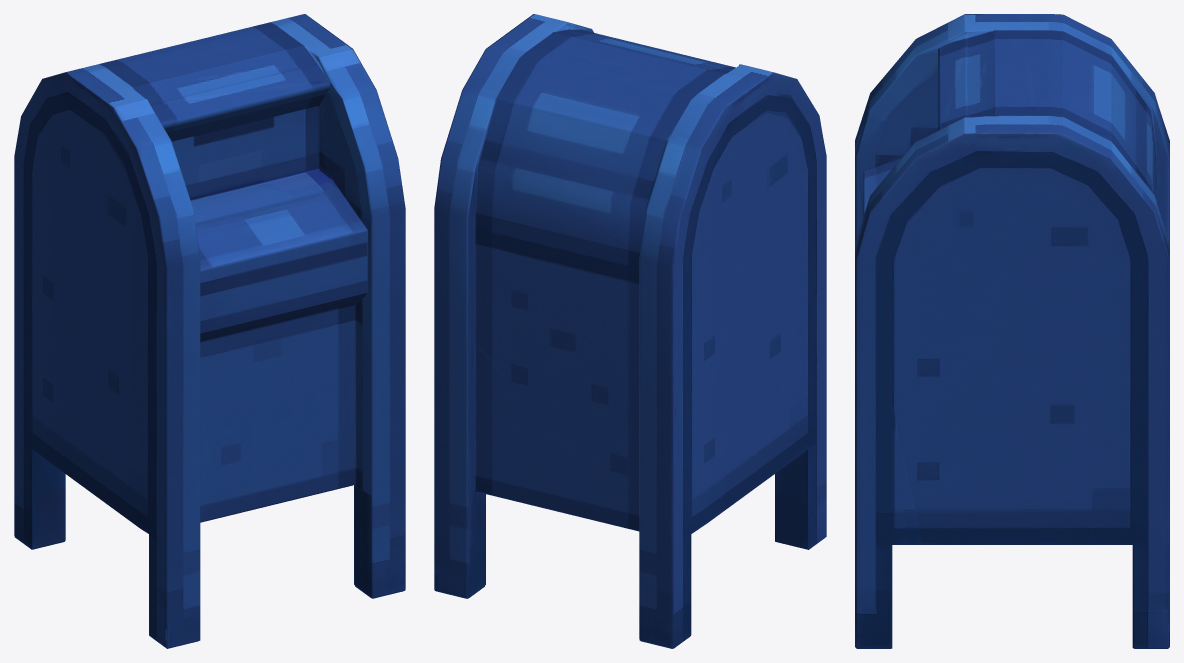
The model's file is PROP_MAILBOX.glb.
The picture shows the model from 3 angles, left to right: view 1: azimuth 30°, elevation 25°; view 2: azimuth 150°, elevation 25°; view 3: azimuth 270°, elevation 25°; orthographic projection. The views are drawn at different scales.
Bounding box in the file's own units: 0.9511 × 1.91 × 1.05.
1 material, 1 textured.
